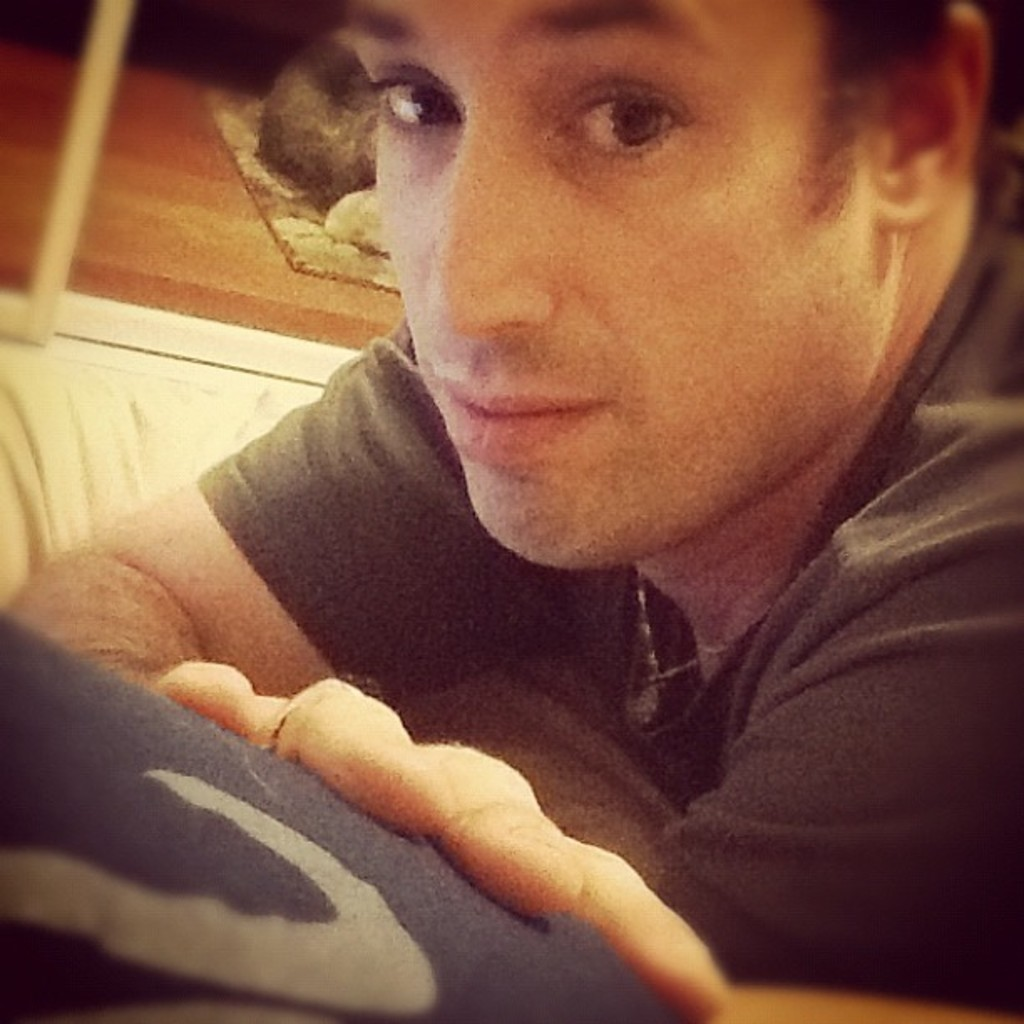Human-face: (330, 0, 877, 562)
